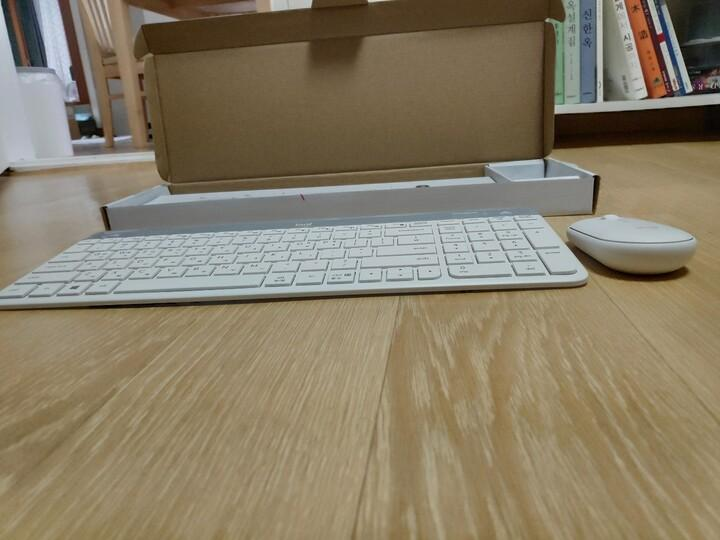keyboard: (0, 210, 589, 309)
mouse: (565, 213, 697, 275)
